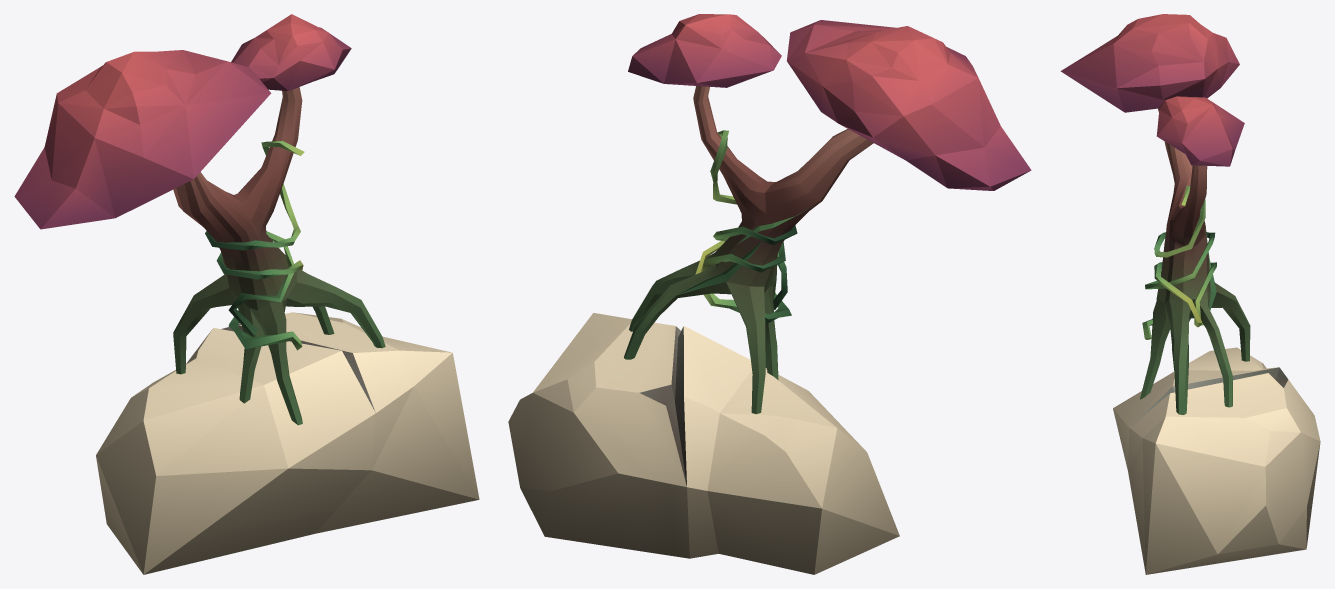
The model's file is treeRootUpright.fbx.
3 renders of one model, left to right at view 1: azimuth 30°, elevation 25°; view 2: azimuth 150°, elevation 25°; view 3: azimuth 270°, elevation 25°, orthographic. The views are drawn at different scales.
Visible parts, largest first — view 1: treeRootUpright; view 2: treeRootUpright; view 3: treeRootUpright.
Part boxes in pixels (<box>): treeRootUpright: <box>14,14,479,574</box>; treeRootUpright: <box>508,14,1031,574</box>; treeRootUpright: <box>1060,14,1320,574</box>.
Size of the model in its own units: 2148 by 2239 by 1250.
